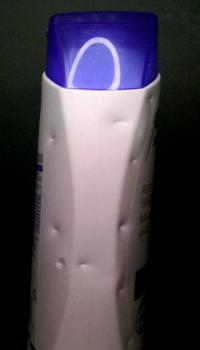dent_marginal: (48, 255, 72, 273), (114, 216, 132, 236), (47, 222, 66, 238), (40, 132, 63, 144), (105, 117, 131, 127), (112, 282, 128, 298), (76, 256, 92, 270), (126, 154, 143, 167), (52, 257, 65, 274), (144, 94, 160, 105), (119, 335, 136, 345)
